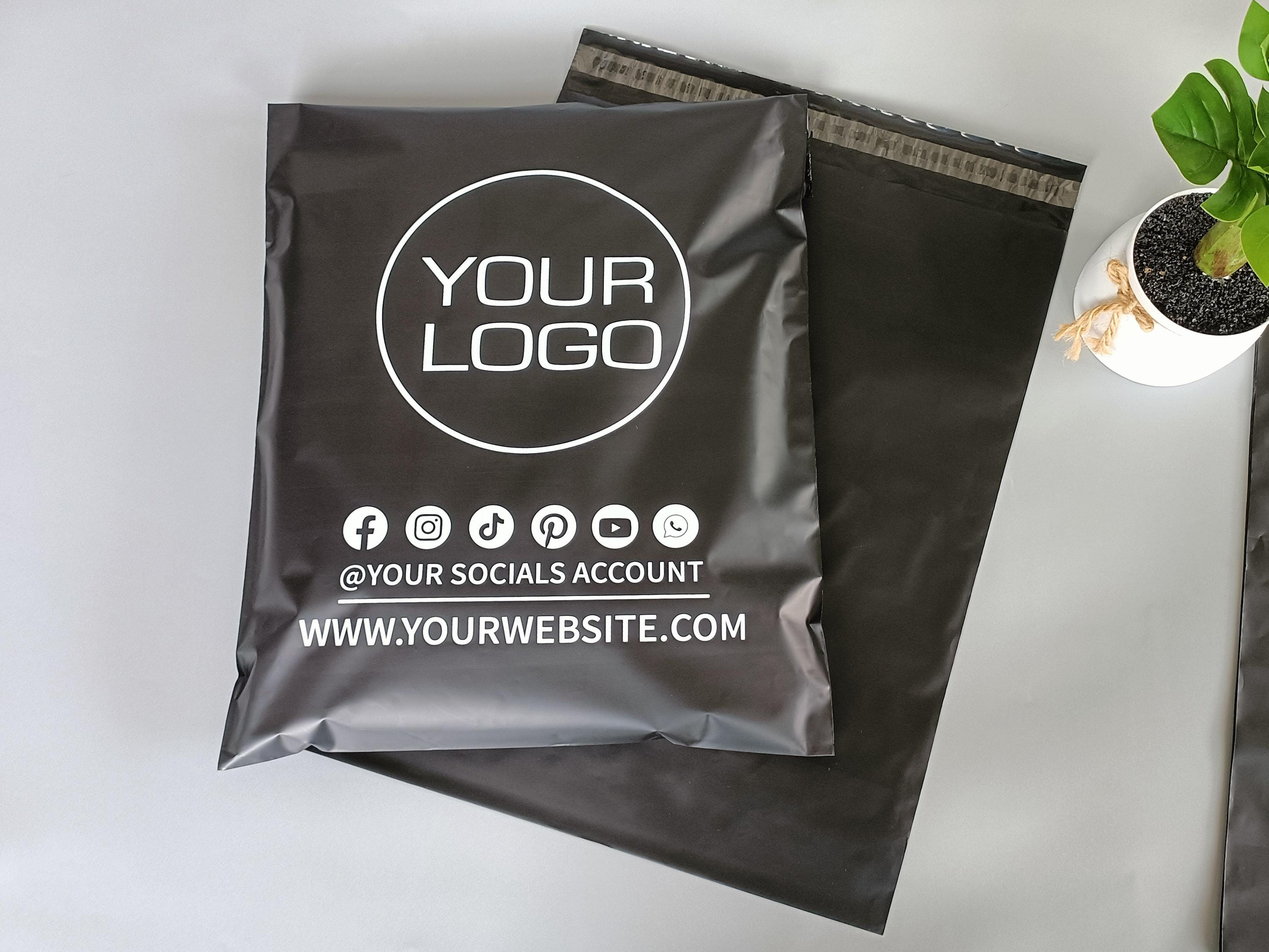Parcel: (340, 28, 1085, 935), (206, 94, 833, 767)
